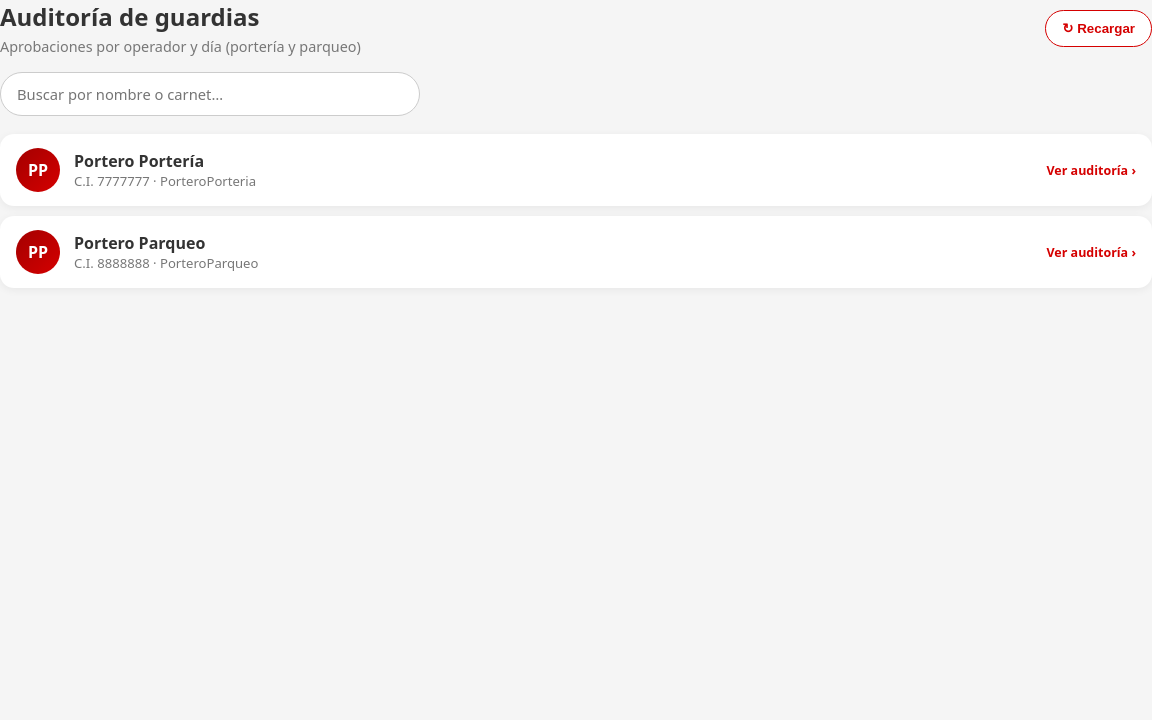
AuditoriaComponent (vista de auditoría de guardias) › muestra un guardia sin aprobaciones como vacío
Click the list item with class "auditoria__item" that starts with "Portero Parqueo". click: (576, 252)
box: x1=0 y1=216 x2=1151 y2=288
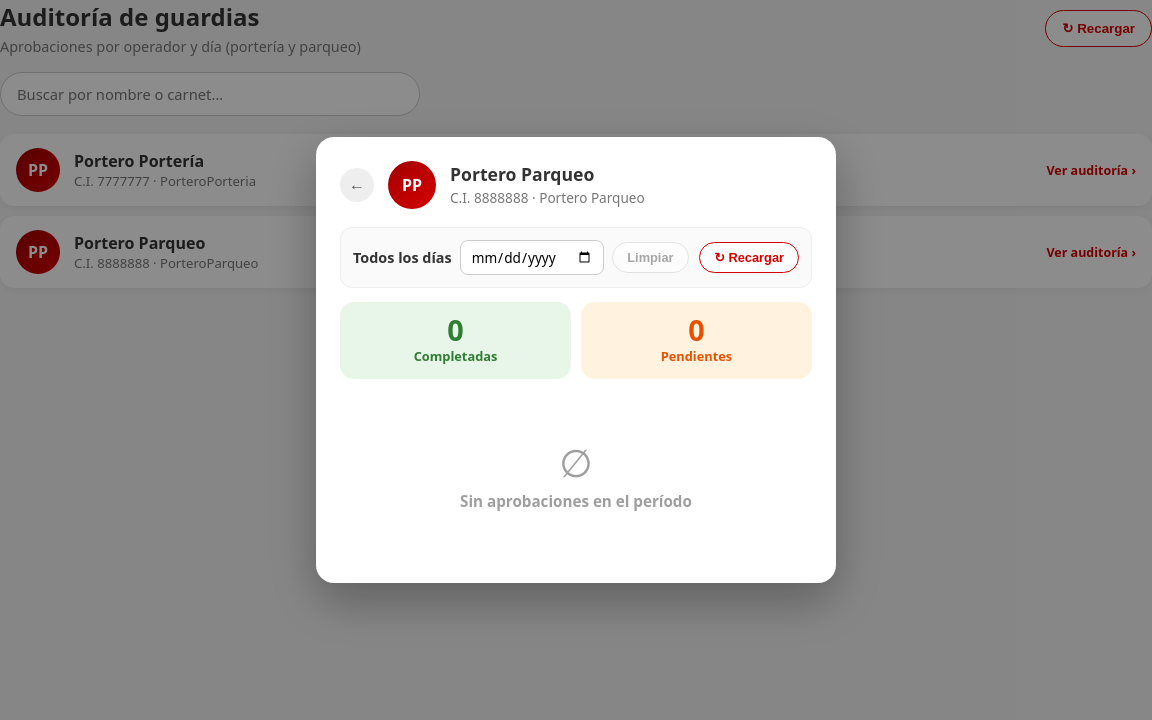
Expected: the text "Portero Parqueo" is shown, x1=74 y1=232 x2=205 y2=254
Now the text "Sin aprobaciones en el período" is shown, box x1=460 y1=491 x2=692 y2=511
